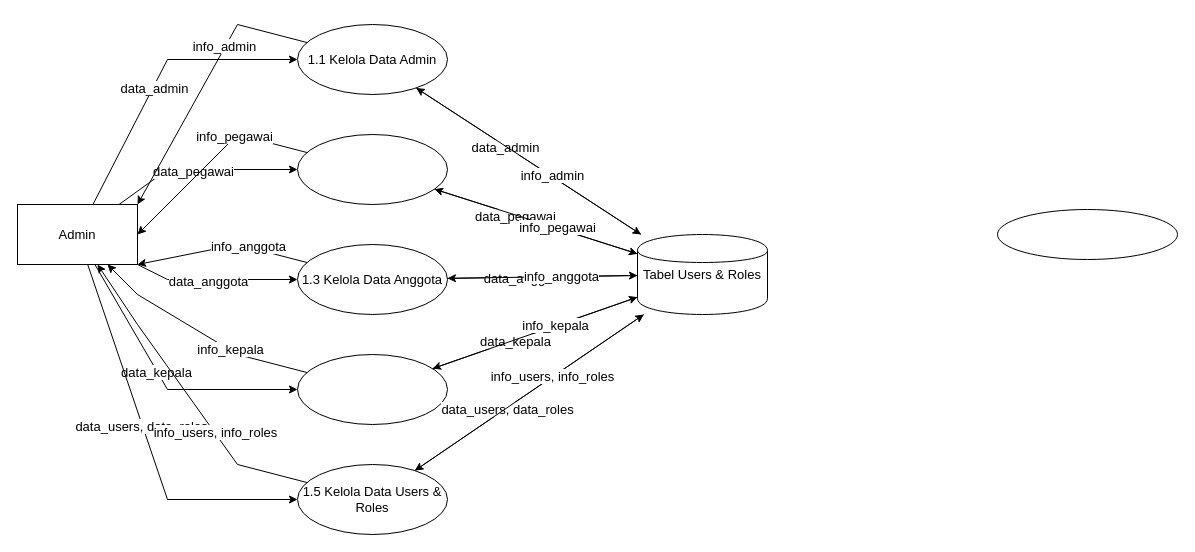
Some shapes in this 1195 by 552 pixel diagram are drawn without their labels. The centre of each missing label's shape, as x and y in pixels:
"1. Pengelolaan Data Pengguna" belongs at (1087,234).
"1.2 Kelola Data Pegawai" belongs at (372,169).
"1.4 Kelola Data Kepala Perpustakaan" belongs at (372,389).
